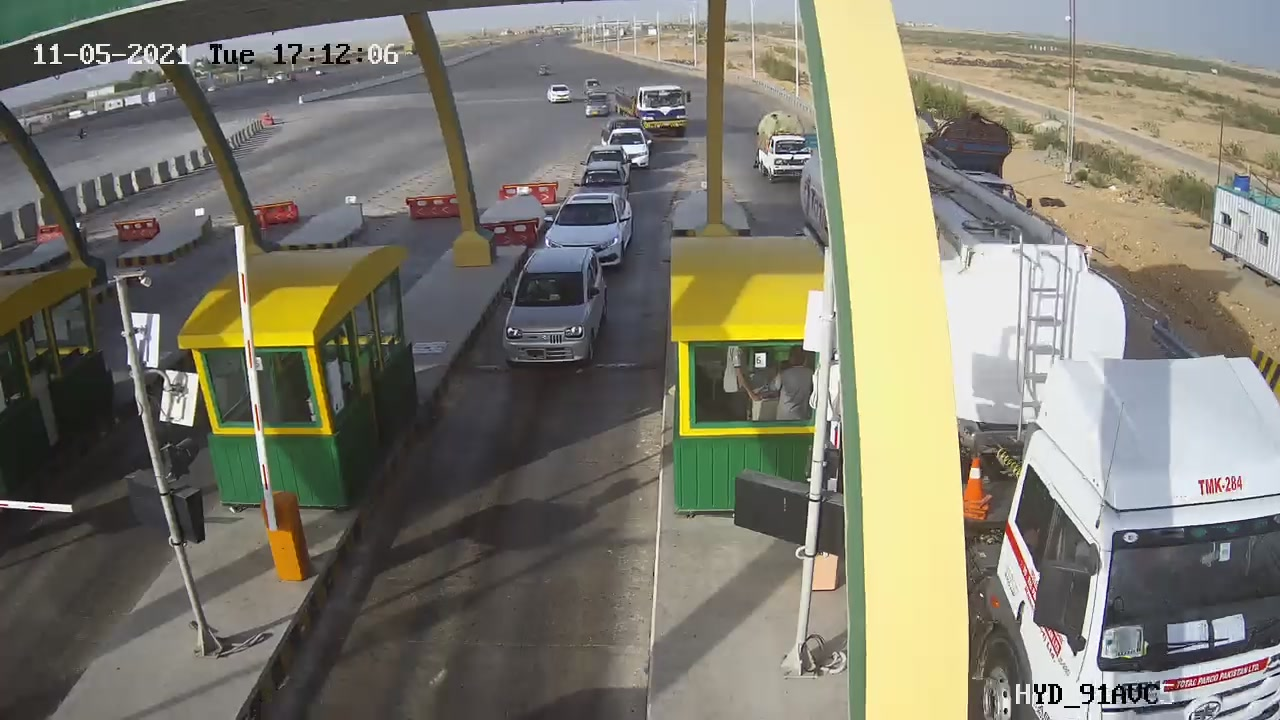F1: (478, 236, 634, 378), (529, 182, 647, 281)
